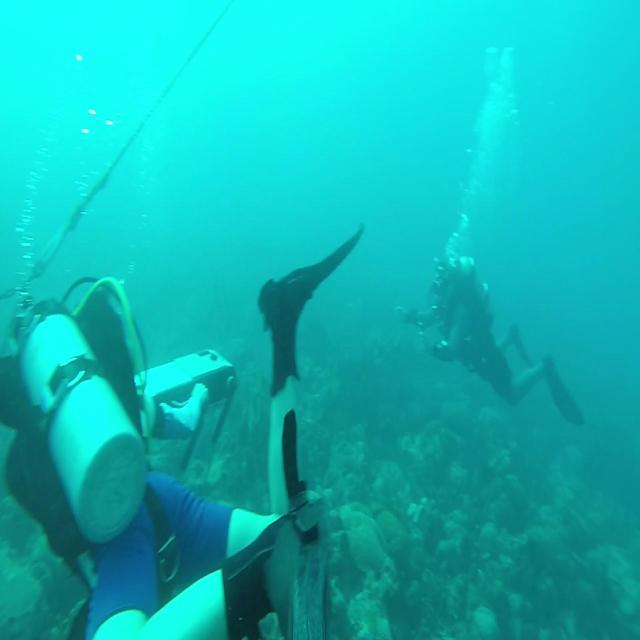human: (1, 273, 328, 638), (396, 249, 584, 427)
